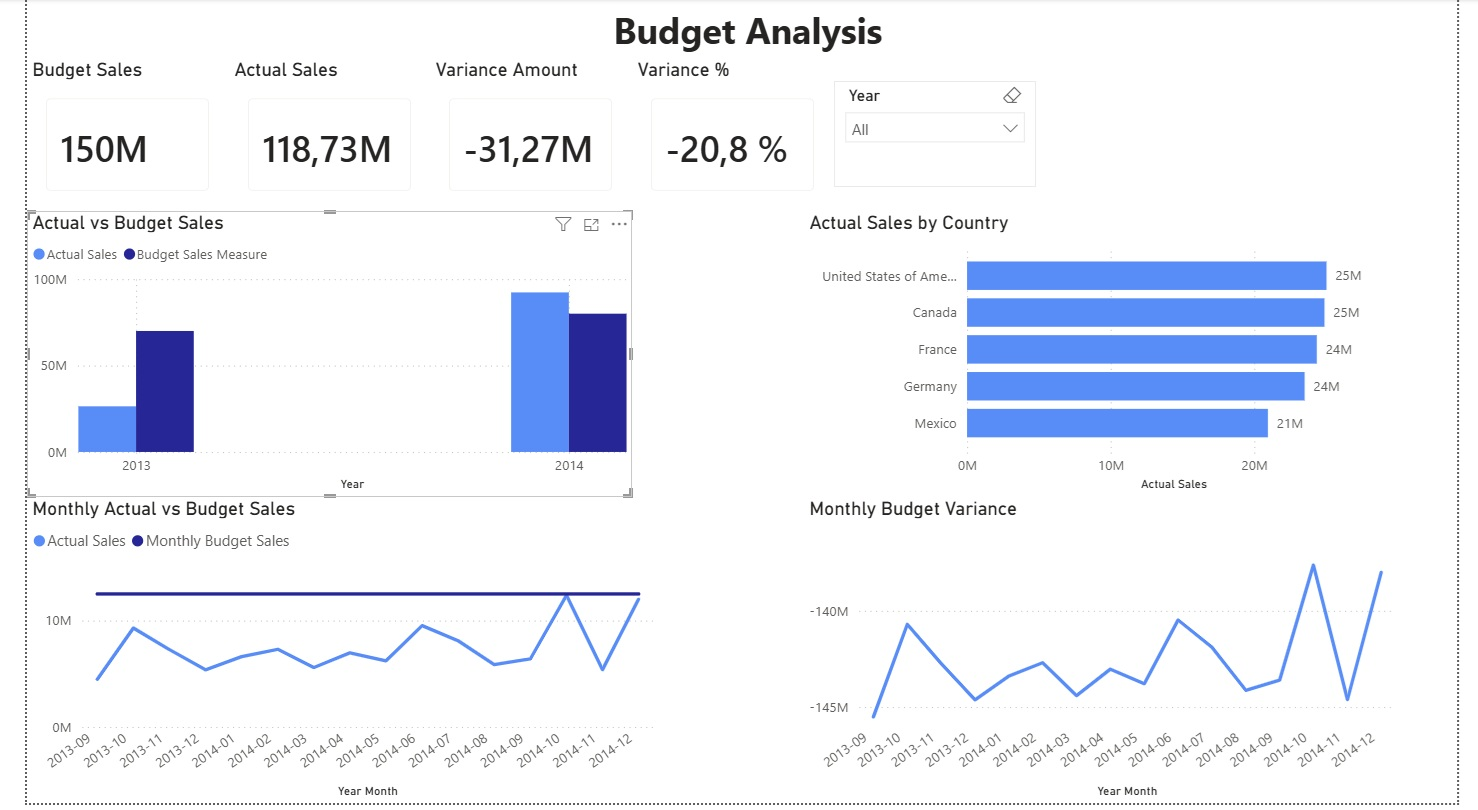

Layout of this report page (visuals, bound fields, positions):
{"tool":"powerbi","page":{"name":"Budget Analytsis","canvas":[1280,720],"ordinal":1},"visuals":[{"type":"textbox","box":[10.5,0,1269.7,52.7],"z":0},{"type":"clusteredColumnChart","title":"Actual vs Budget Sales","fields":{"Y":["financials.Actual Sales","Budget.Budget Sales Measure"],"Category":["YearTable.Year"]},"box":[0,189.9,541.9,255.8],"z":1000},{"type":"cardVisual","title":"Budget Sales","fields":{"Data":["Budget.Budget Sales Measure"]},"box":[0,52.7,180.6,137.1],"z":2000},{"type":"cardVisual","title":"Actual Sales","fields":{"Data":["financials.Actual Sales"]},"box":[180.6,52.7,180.6,137.1],"z":3000},{"type":"cardVisual","title":"Variance Amount","fields":{"Data":["financials.Budget Variance"]},"box":[361.3,52.7,180.6,137.1],"z":4000},{"type":"cardVisual","title":"Variance %","fields":{"Data":["financials.Budget Variance %"]},"box":[541.9,52.7,180.6,137.1],"z":5000},{"type":"clusteredBarChart","fields":{"Category":["financials.Country"],"Y":["financials.Actual Sales"]},"box":[696.2,189.9,534,255.8],"z":6000},{"type":"lineChart","title":"Monthly Actual vs Budget Sales","fields":{"Y":["financials.Actual Sales","Budget.Monthly Budget Sales"],"Category":["DateTable.Year Month"]},"box":[0,445.7,565.6,274.2],"z":7000},{"type":"slicer","fields":{"Values":["Budget.Year"]},"box":[722.5,73.8,180.6,94.9],"z":7001},{"type":"lineChart","title":"Monthly Budget Variance ","fields":{"Category":["DateTable.Year Month"],"Y":["financials.Budget Variance"]},"box":[696.2,445.7,534,274.2],"z":7002}]}

Visuals, with their boxes in screenshot pixels (x1, y1, x2, y2), scaled from the page's 1280x720 canvas onto the 1478x810 screenshot:
textbox: detection(12, 0, 1477, 59)
"Actual vs Budget Sales" clusteredColumnChart: detection(0, 214, 626, 501)
"Budget Sales" cardVisual: detection(0, 59, 209, 214)
"Actual Sales" cardVisual: detection(209, 59, 417, 214)
"Variance Amount" cardVisual: detection(417, 59, 626, 214)
"Variance %" cardVisual: detection(626, 59, 834, 214)
clusteredBarChart - financials.Country x financials.Actual Sales: detection(804, 214, 1420, 501)
"Monthly Actual vs Budget Sales" lineChart: detection(0, 501, 653, 809)
slicer - Budget.Year: detection(834, 83, 1043, 190)
"Monthly Budget Variance " lineChart: detection(804, 501, 1420, 809)
